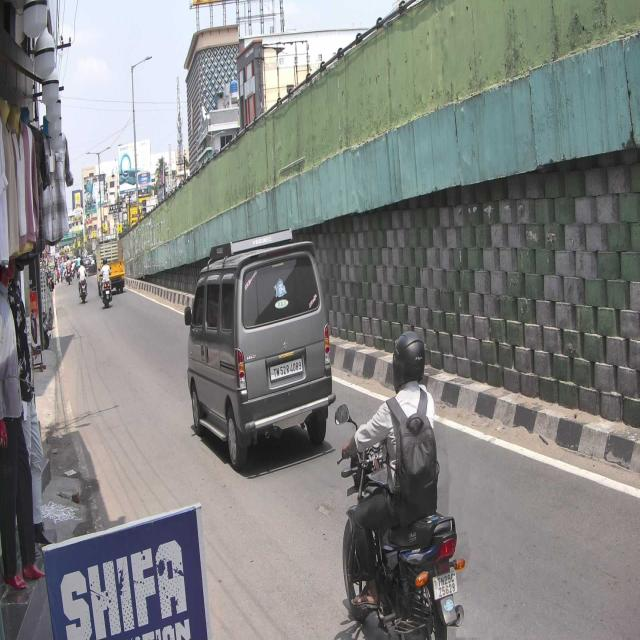single_rider: (336, 329, 466, 640)
